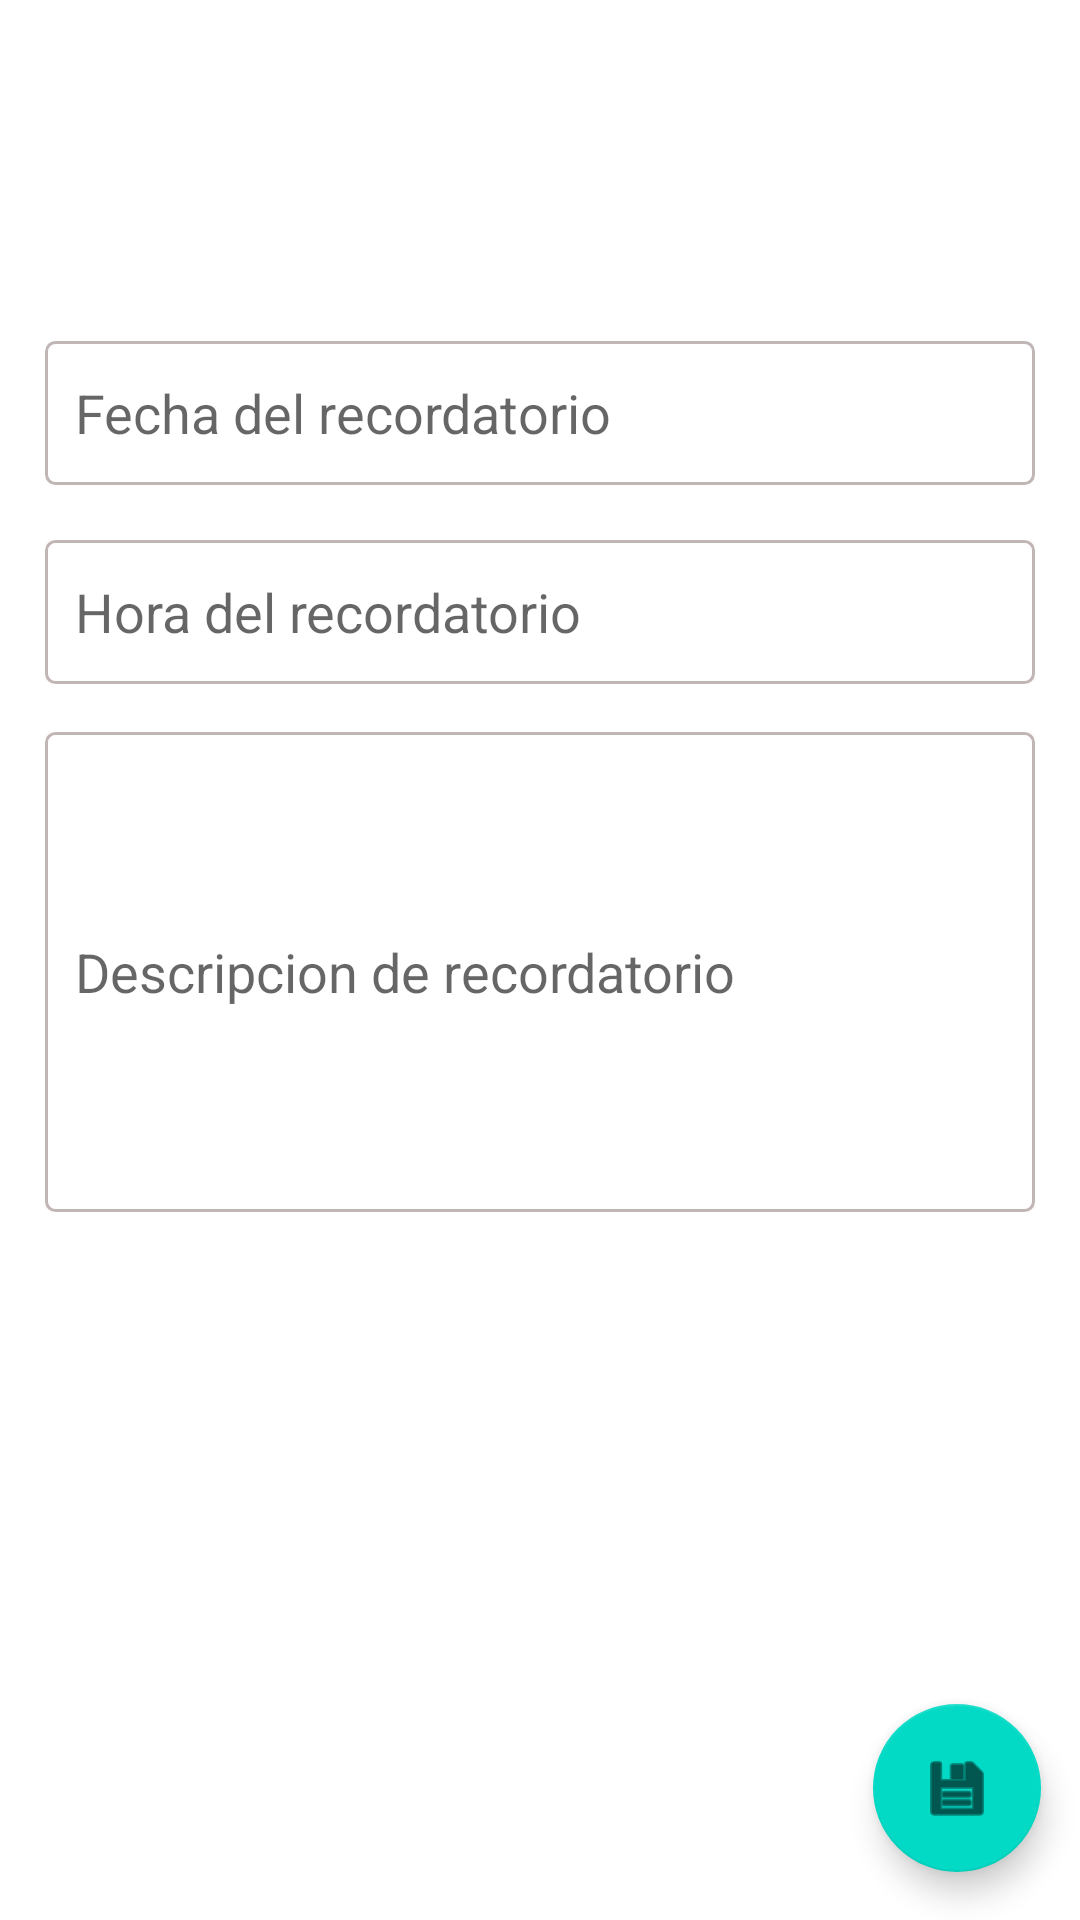

Named icons in this screenshot (1080px×1920px) and their bounding boxes, BBox(x1, y1, x2, y2):
save: BBox(873, 1704, 1041, 1872)
